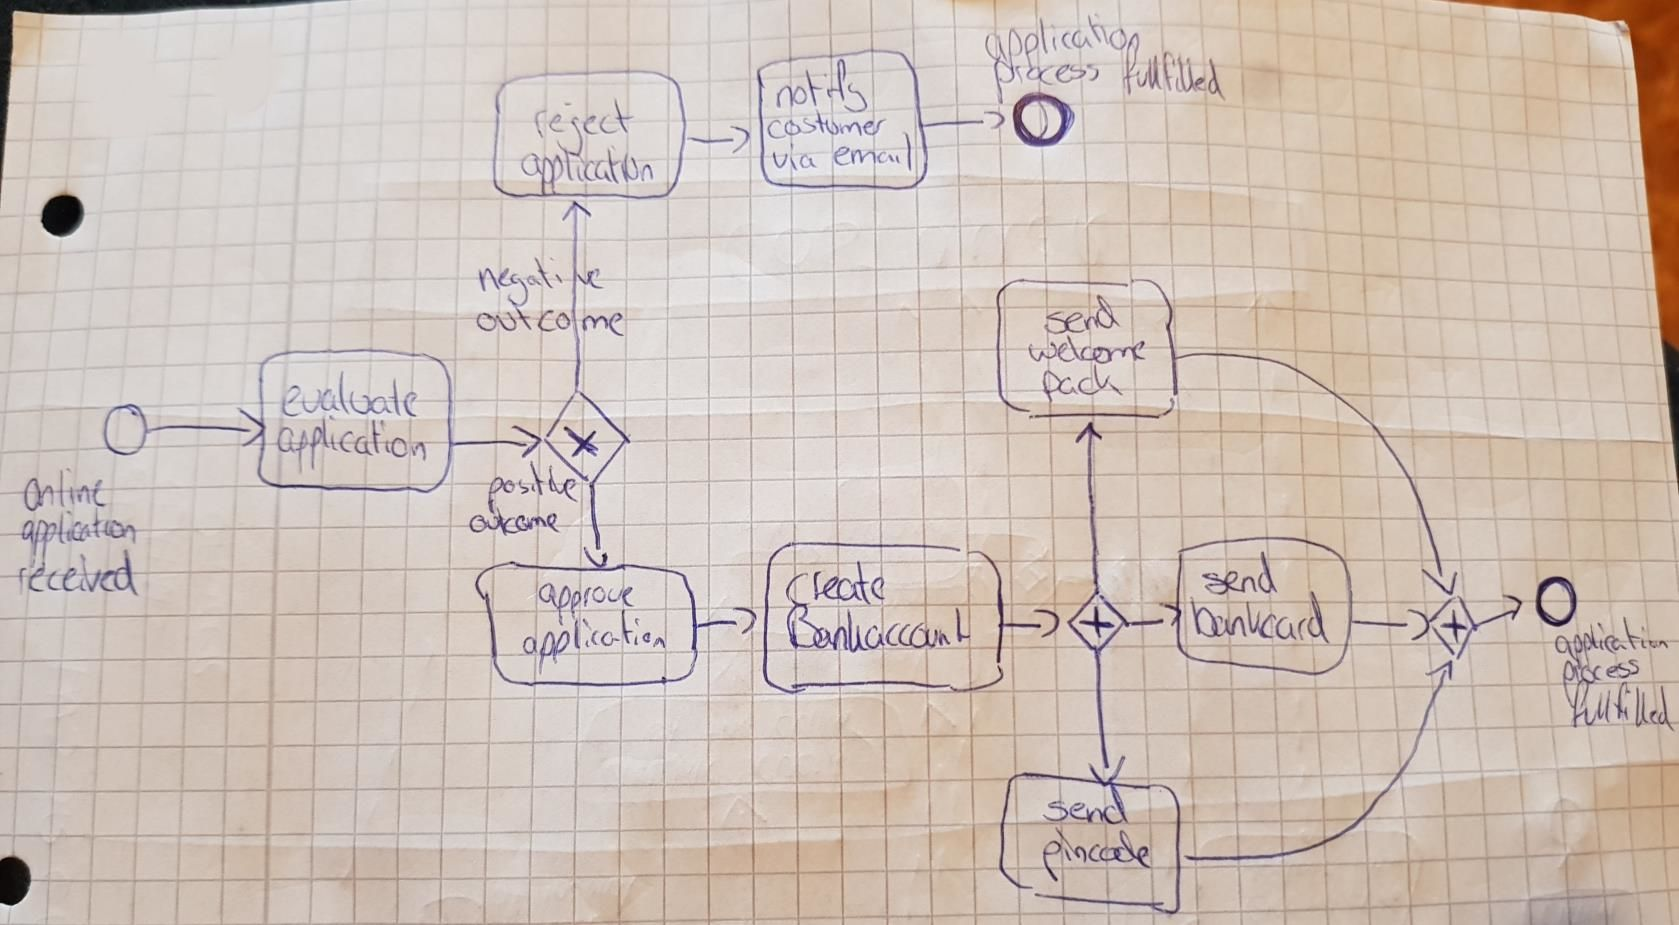Bankaccount: (786, 604, 970, 653)
Online: (19, 463, 110, 511)
application: (517, 619, 669, 672), (275, 418, 431, 469), (978, 23, 1147, 68), (519, 152, 656, 191), (21, 511, 142, 556), (1550, 623, 1666, 658)
approve: (534, 579, 636, 621)
bankcard: (1185, 595, 1329, 646)
costumer: (768, 113, 893, 142)
create: (781, 563, 894, 609)
email: (832, 134, 920, 170)
evaluate: (277, 371, 424, 420)
fullfilled: (1119, 47, 1227, 100), (1570, 683, 1673, 734)
negative: (470, 257, 608, 304)
notify: (770, 62, 871, 109)
outcome: (475, 303, 626, 338), (470, 507, 565, 537)
pack: (1037, 367, 1122, 404)
pincode: (1039, 828, 1152, 887)
positive: (482, 464, 580, 507)
process: (994, 60, 1101, 99), (1557, 657, 1643, 685)
received: (11, 556, 146, 598)
reject: (526, 95, 637, 155)
send: (1038, 786, 1138, 825), (1205, 552, 1278, 597), (1043, 301, 1117, 338)
via: (768, 145, 824, 173)
welcome: (1023, 334, 1148, 366)
